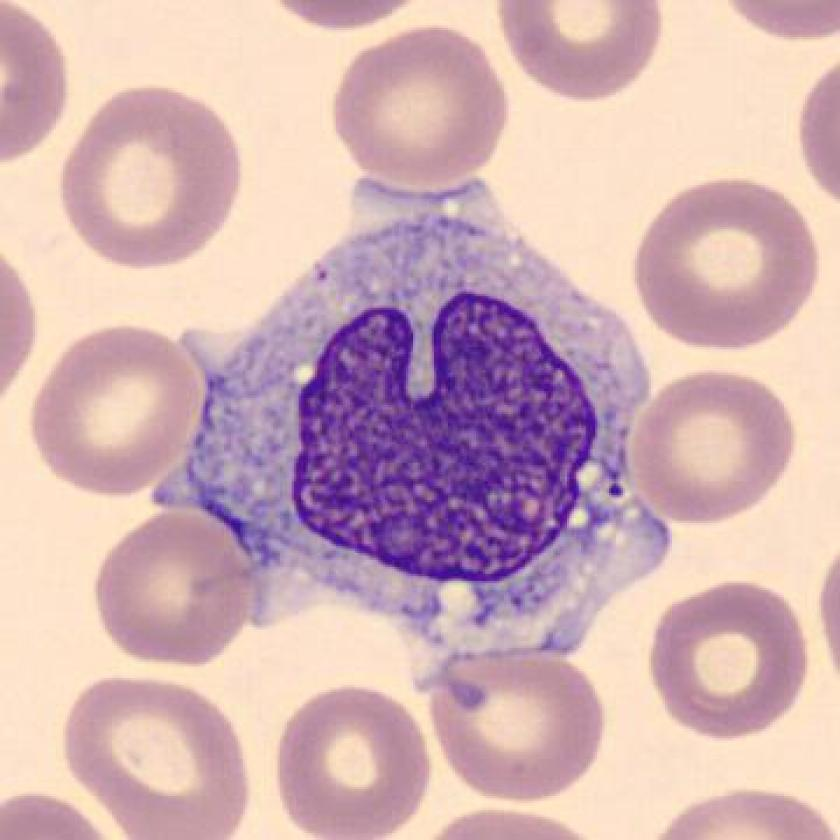monocyte: (139, 154, 685, 688)
